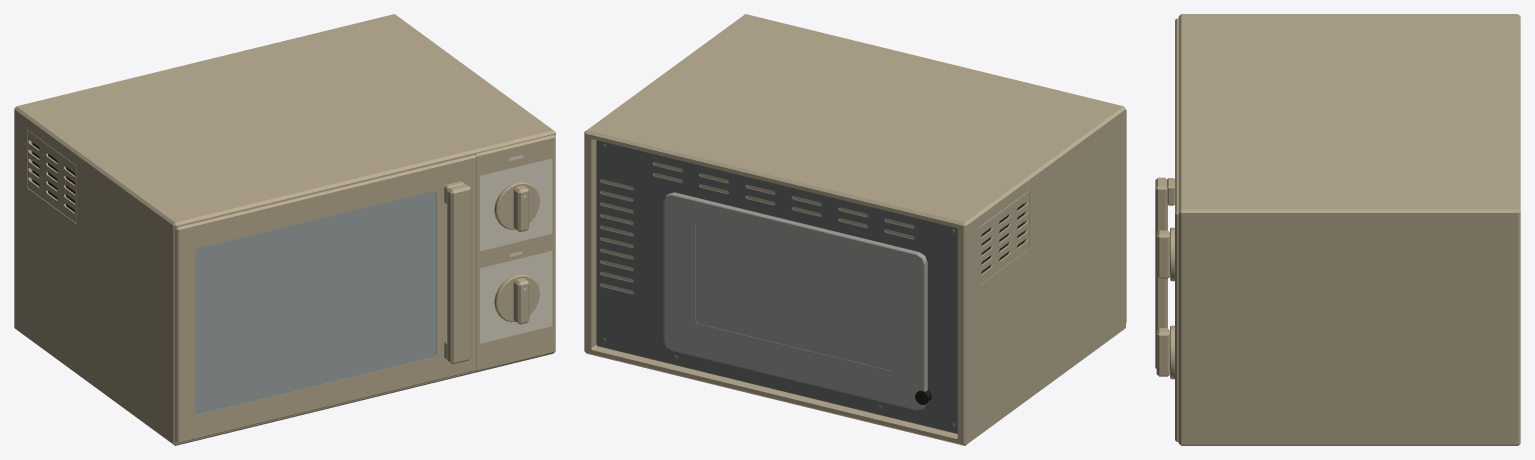
Rendered from microwave-38adf7947220.glb.
3 views of the same model, side by side, from view 1: azimuth 30°, elevation 25°; view 2: azimuth 150°, elevation 25°; view 3: azimuth 270°, elevation 25° (orthographic). The views are drawn at different scales.
Visible parts, largest first — view 1: enamel-beige, glass-clear, decal-ink; view 2: enamel-beige, metal, brushed, grille-brushed; view 3: enamel-beige.
Part boxes in pixels (x1,y1,x2,y2): enamel-beige: (14,14,555,445); glass-clear: (195,191,436,414); decal-ink: (480,155,552,343); enamel-beige: (584,14,1126,445); metal: (596,140,957,433); brushed: (663,192,927,410); grille-brushed: (695,222,892,370); enamel-beige: (1155,14,1520,445).
Bounding box in the file's own units: 0.52 × 0.3 × 0.406.
